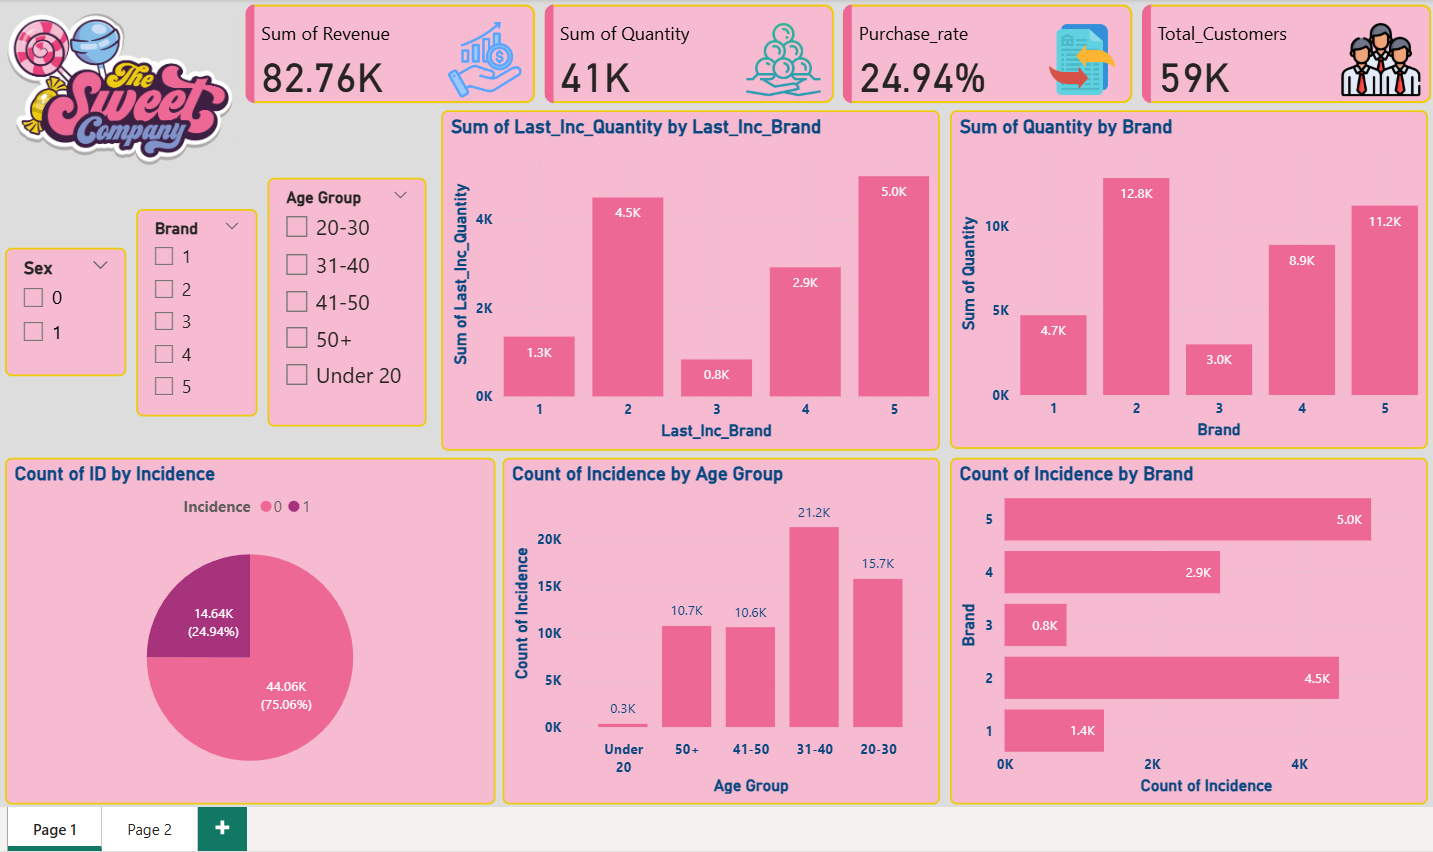

The page's visual inventory and layout, read from the dashboard file:
{"tool":"powerbi","page":{"name":"Page 1","canvas":[1280,720],"ordinal":0},"visuals":[{"type":"pieChart","fields":{"Y":["CountNonNull(Sheet1.ID)"],"Category":["Sheet1.Incidence"]},"box":[4.8,409,436.7,308.8],"z":0},{"type":"clusteredBarChart","fields":{"Category":["Sheet1.Brand"],"Y":["CountNonNull(Sheet1.Incidence)"]},"box":[845.7,409,425.9,308.8],"z":1},{"type":"clusteredColumnChart","fields":{"Category":["Sheet1.Brand"],"Y":["Sum(Sheet1.Quantity)"]},"box":[845.7,98.9,425.9,301.6],"z":2},{"type":"clusteredColumnChart","fields":{"Category":["Sheet1.Age Group"],"Y":["CountNonNull(Sheet1.Incidence)"]},"box":[447.6,409,389.7,308.8],"z":3},{"type":"clusteredColumnChart","fields":{"Y":["Sum(Sheet1.Last_Inc_Quantity)"],"Category":["Sheet1.Last_Inc_Brand"]},"box":[393.3,98.9,444,302.8],"z":5},{"type":"slicer","fields":{"Values":["Sheet1.Brand"]},"box":[121.3,187,108,184.8],"z":6},{"type":"slicer","fields":{"Values":["Sheet1.Sex"]},"box":[4.5,221.5,108,114.7],"z":7},{"type":"slicer","fields":{"Values":["Sheet1.Age Group"]},"box":[238.2,159.2,141.4,221.5],"z":8},{"type":"cardVisual","fields":{"Data":["Sum(Sheet1.Revenue)","Sum(Sheet1.Quantity)","Sheet1.Purchase_rate","Sheet1.Total_Customers"]},"box":[214.1,0,1066.2,98.8],"z":9},{"type":"image","box":[0,0,214.1,159.2],"z":10}]}

Visuals, with their boxes on the page's 1280x720 design canvas (x1, y1, x2, y2). These are canvas units, not pixel positions in the 1433x852 screenshot, which may show the page scaled, cropped or inside an application window:
pieChart - CountNonNull(Sheet1.ID) x Sheet1.Incidence: locate(5, 409, 442, 718)
clusteredBarChart - Sheet1.Brand x CountNonNull(Sheet1.Incidence): locate(846, 409, 1272, 718)
clusteredColumnChart - Sheet1.Brand x Sum(Sheet1.Quantity): locate(846, 99, 1272, 400)
clusteredColumnChart - Sheet1.Age Group x CountNonNull(Sheet1.Incidence): locate(448, 409, 837, 718)
clusteredColumnChart - Sum(Sheet1.Last_Inc_Quantity) x Sheet1.Last_Inc_Brand: locate(393, 99, 837, 402)
slicer - Sheet1.Brand: locate(121, 187, 229, 372)
slicer - Sheet1.Sex: locate(4, 222, 112, 336)
slicer - Sheet1.Age Group: locate(238, 159, 380, 381)
cardVisual - Sum(Sheet1.Revenue) x Sum(Sheet1.Quantity): locate(214, 0, 1280, 99)
image: locate(0, 0, 214, 159)
